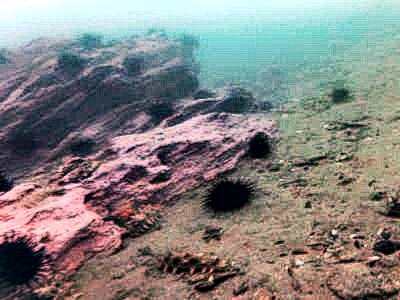urchin: (2, 231, 52, 290), (200, 177, 258, 212), (246, 129, 271, 156)
